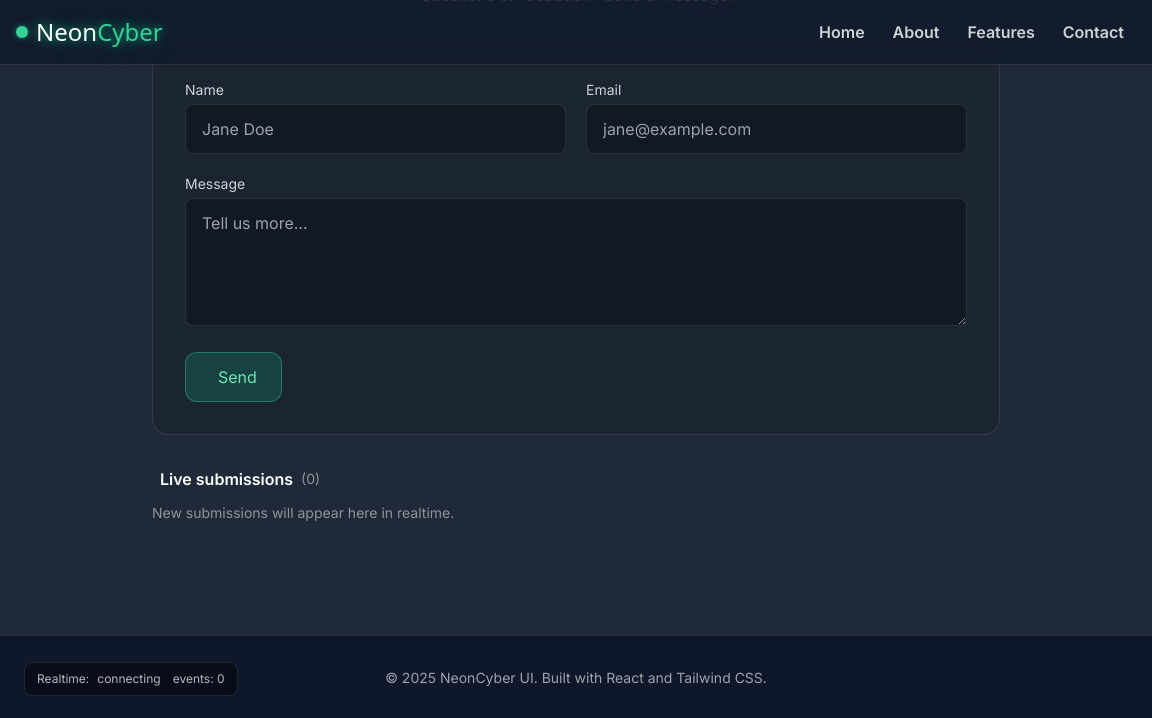
Test case: Contact Form › shows validation errors for invalid inputs
This screenshot has width=1152, height=718.
(page scrolled)
# Submit with empty fields
Click the button with test id "contact-submit".
click(233, 377)  # box x1=185 y1=352 x2=282 y2=402
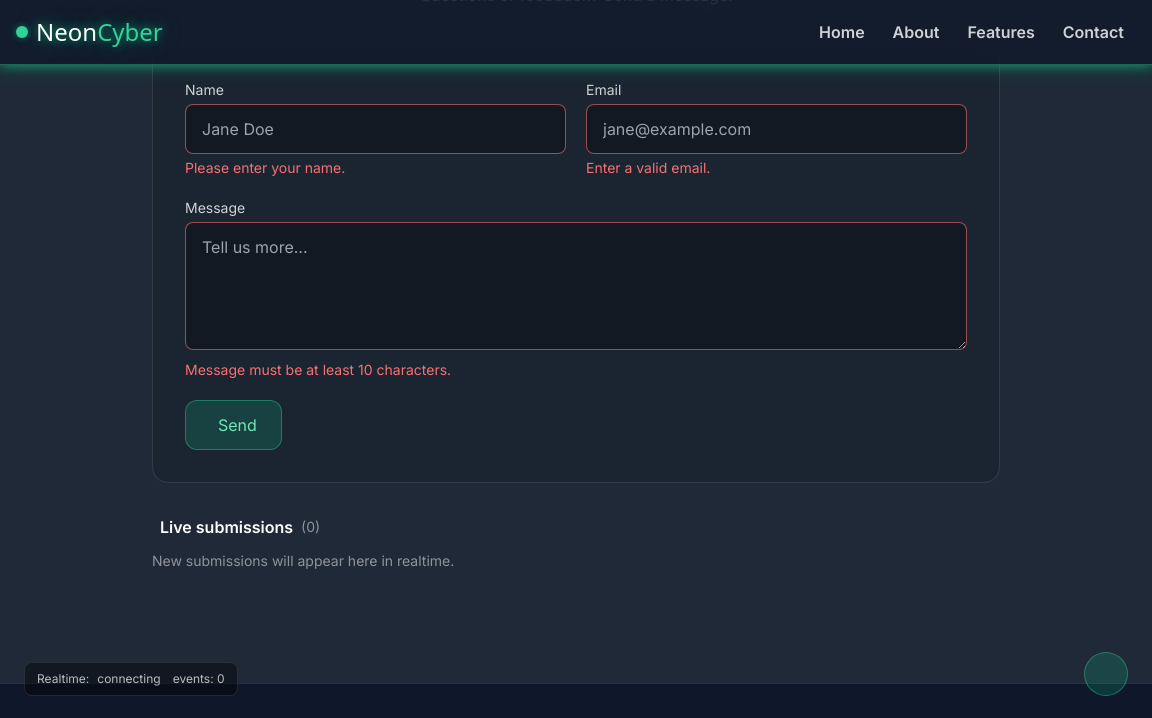
Expected: the text "Please enter your name." is shown, x1=185 y1=159 x2=345 y2=176
Expected: the text "Enter a valid email." is shown, x1=586 y1=159 x2=710 y2=176
Expected: the text "Message must be at least 10 characters." is shown, x1=185 y1=361 x2=451 y2=378
